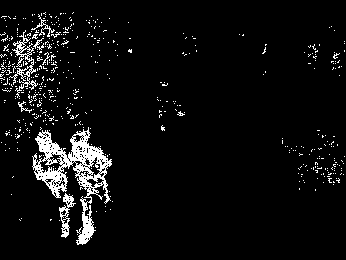person: (29, 127, 72, 244), (72, 128, 113, 240)
